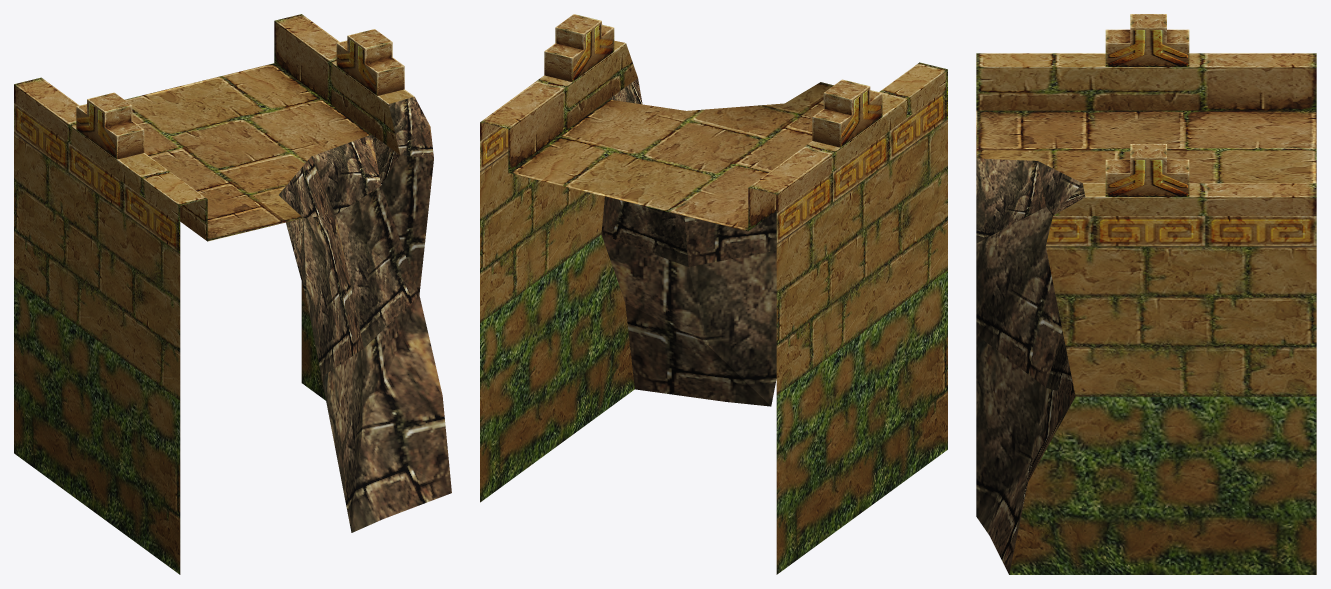
File: TempleRoad09.FBX
3 views of the same model, side by side, from view 1: azimuth 30°, elevation 25°; view 2: azimuth 150°, elevation 25°; view 3: azimuth 270°, elevation 25° (orthographic). The views are drawn at different scales.
Parts seen in each view (by area): view 1: TempleRoad09; view 2: TempleRoad09; view 3: TempleRoad09.
Boxes of the visible parts, left/top/right/bottom form: TempleRoad09: left=14, top=14, right=451, bottom=574; TempleRoad09: left=480, top=14, right=947, bottom=574; TempleRoad09: left=976, top=14, right=1316, bottom=574.
Size of the model in its own units: 500 by 677 by 500.
